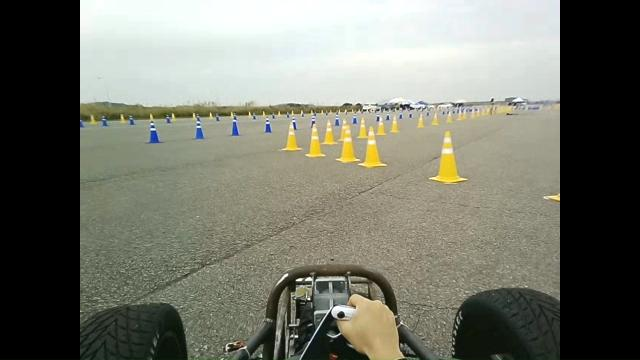blue cone: (144, 118, 162, 148), (262, 115, 274, 135), (194, 116, 204, 139), (230, 119, 240, 136), (291, 116, 297, 130)
yellow cone: (428, 130, 468, 183), (358, 126, 387, 168), (336, 126, 360, 163), (305, 123, 325, 158), (280, 121, 302, 151)
